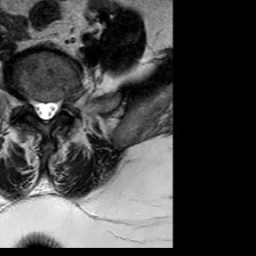CCS_normal: (41, 90, 50, 129)
LFS_stenosis: (60, 88, 70, 117)
LLS_normal: (50, 90, 60, 124)
RFS_stenosis: (23, 84, 32, 112)
RLS_normal: (32, 89, 41, 124)
